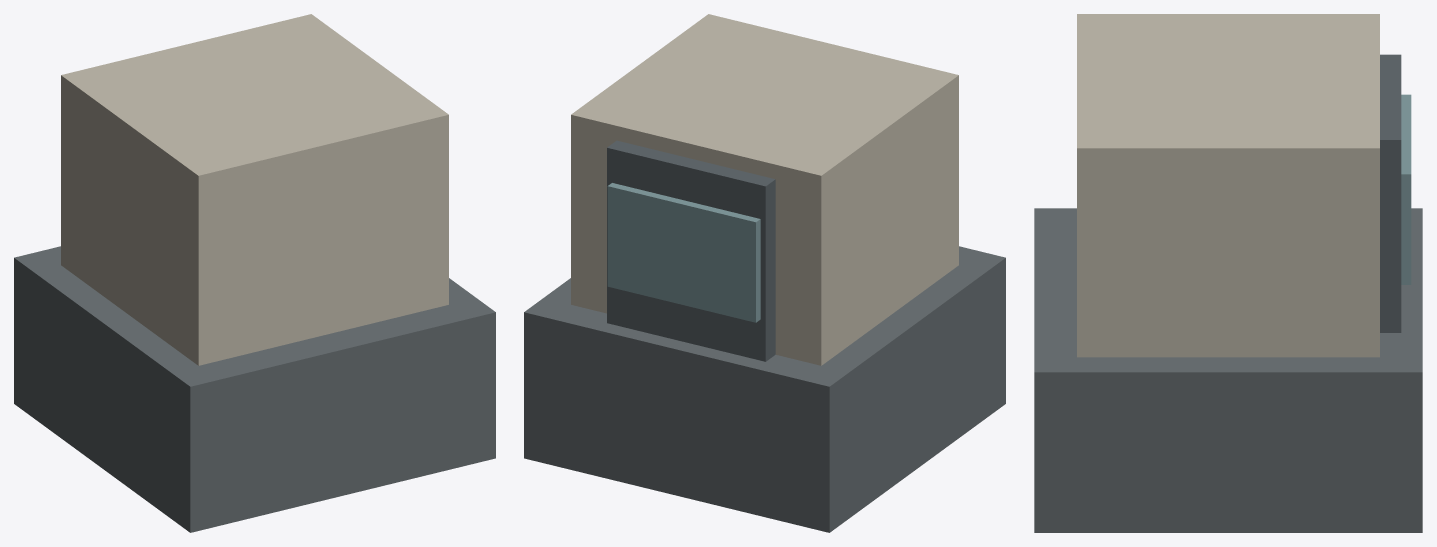
The model's file is iz3_prison_toilet_01.glb.
3 views of the same model, side by side, from view 1: azimuth 30°, elevation 25°; view 2: azimuth 150°, elevation 25°; view 3: azimuth 270°, elevation 25° (orthographic). The views are drawn at different scales.
Parts seen in each view (by area): view 1: cabinet, base; view 2: base, cabinet, display, panel; view 3: cabinet, base, panel, display.
Part boxes in pixels (bbox=[...]): cabinet: bbox=[61, 14, 448, 365]; base: bbox=[14, 246, 495, 532]; base: bbox=[524, 246, 1005, 532]; cabinet: bbox=[571, 14, 958, 365]; display: bbox=[607, 183, 760, 322]; panel: bbox=[607, 140, 775, 361]; cabinet: bbox=[1077, 14, 1379, 357]; base: bbox=[1034, 208, 1422, 532]; panel: bbox=[1380, 54, 1401, 332]; display: bbox=[1401, 94, 1411, 284].
Bounding box in the file's own units: 0.7 × 0.736 × 0.7.
